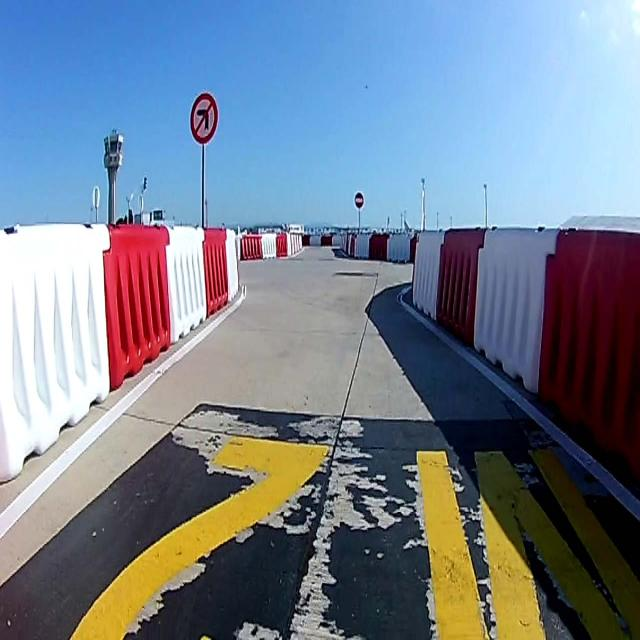girisyok: (353, 192, 364, 209)
soladonulmez: (189, 93, 221, 145)
